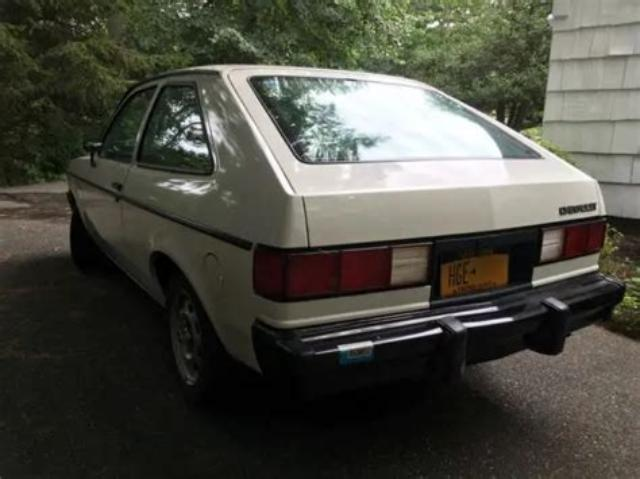chevette-1983: (68, 65, 625, 400)
